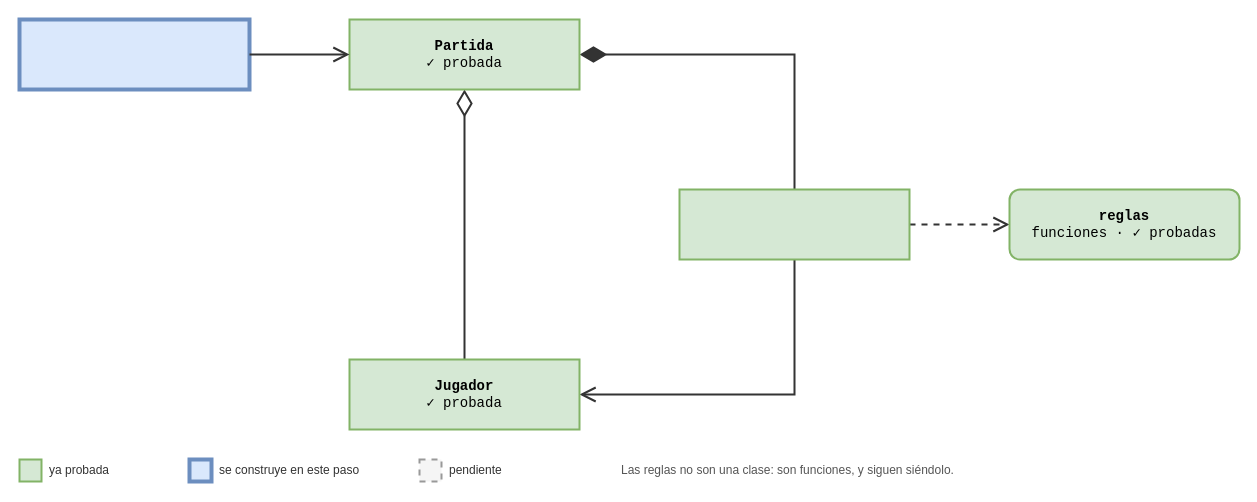
Image size: 1257x502. Some labels were removed from this diagram. Here are the shapes that lost their labels. From the top down, the centre of each, then its label:
At point 134,54: "programa principal usa la partida".
At point 794,224: "Ronda ✓ probada".
